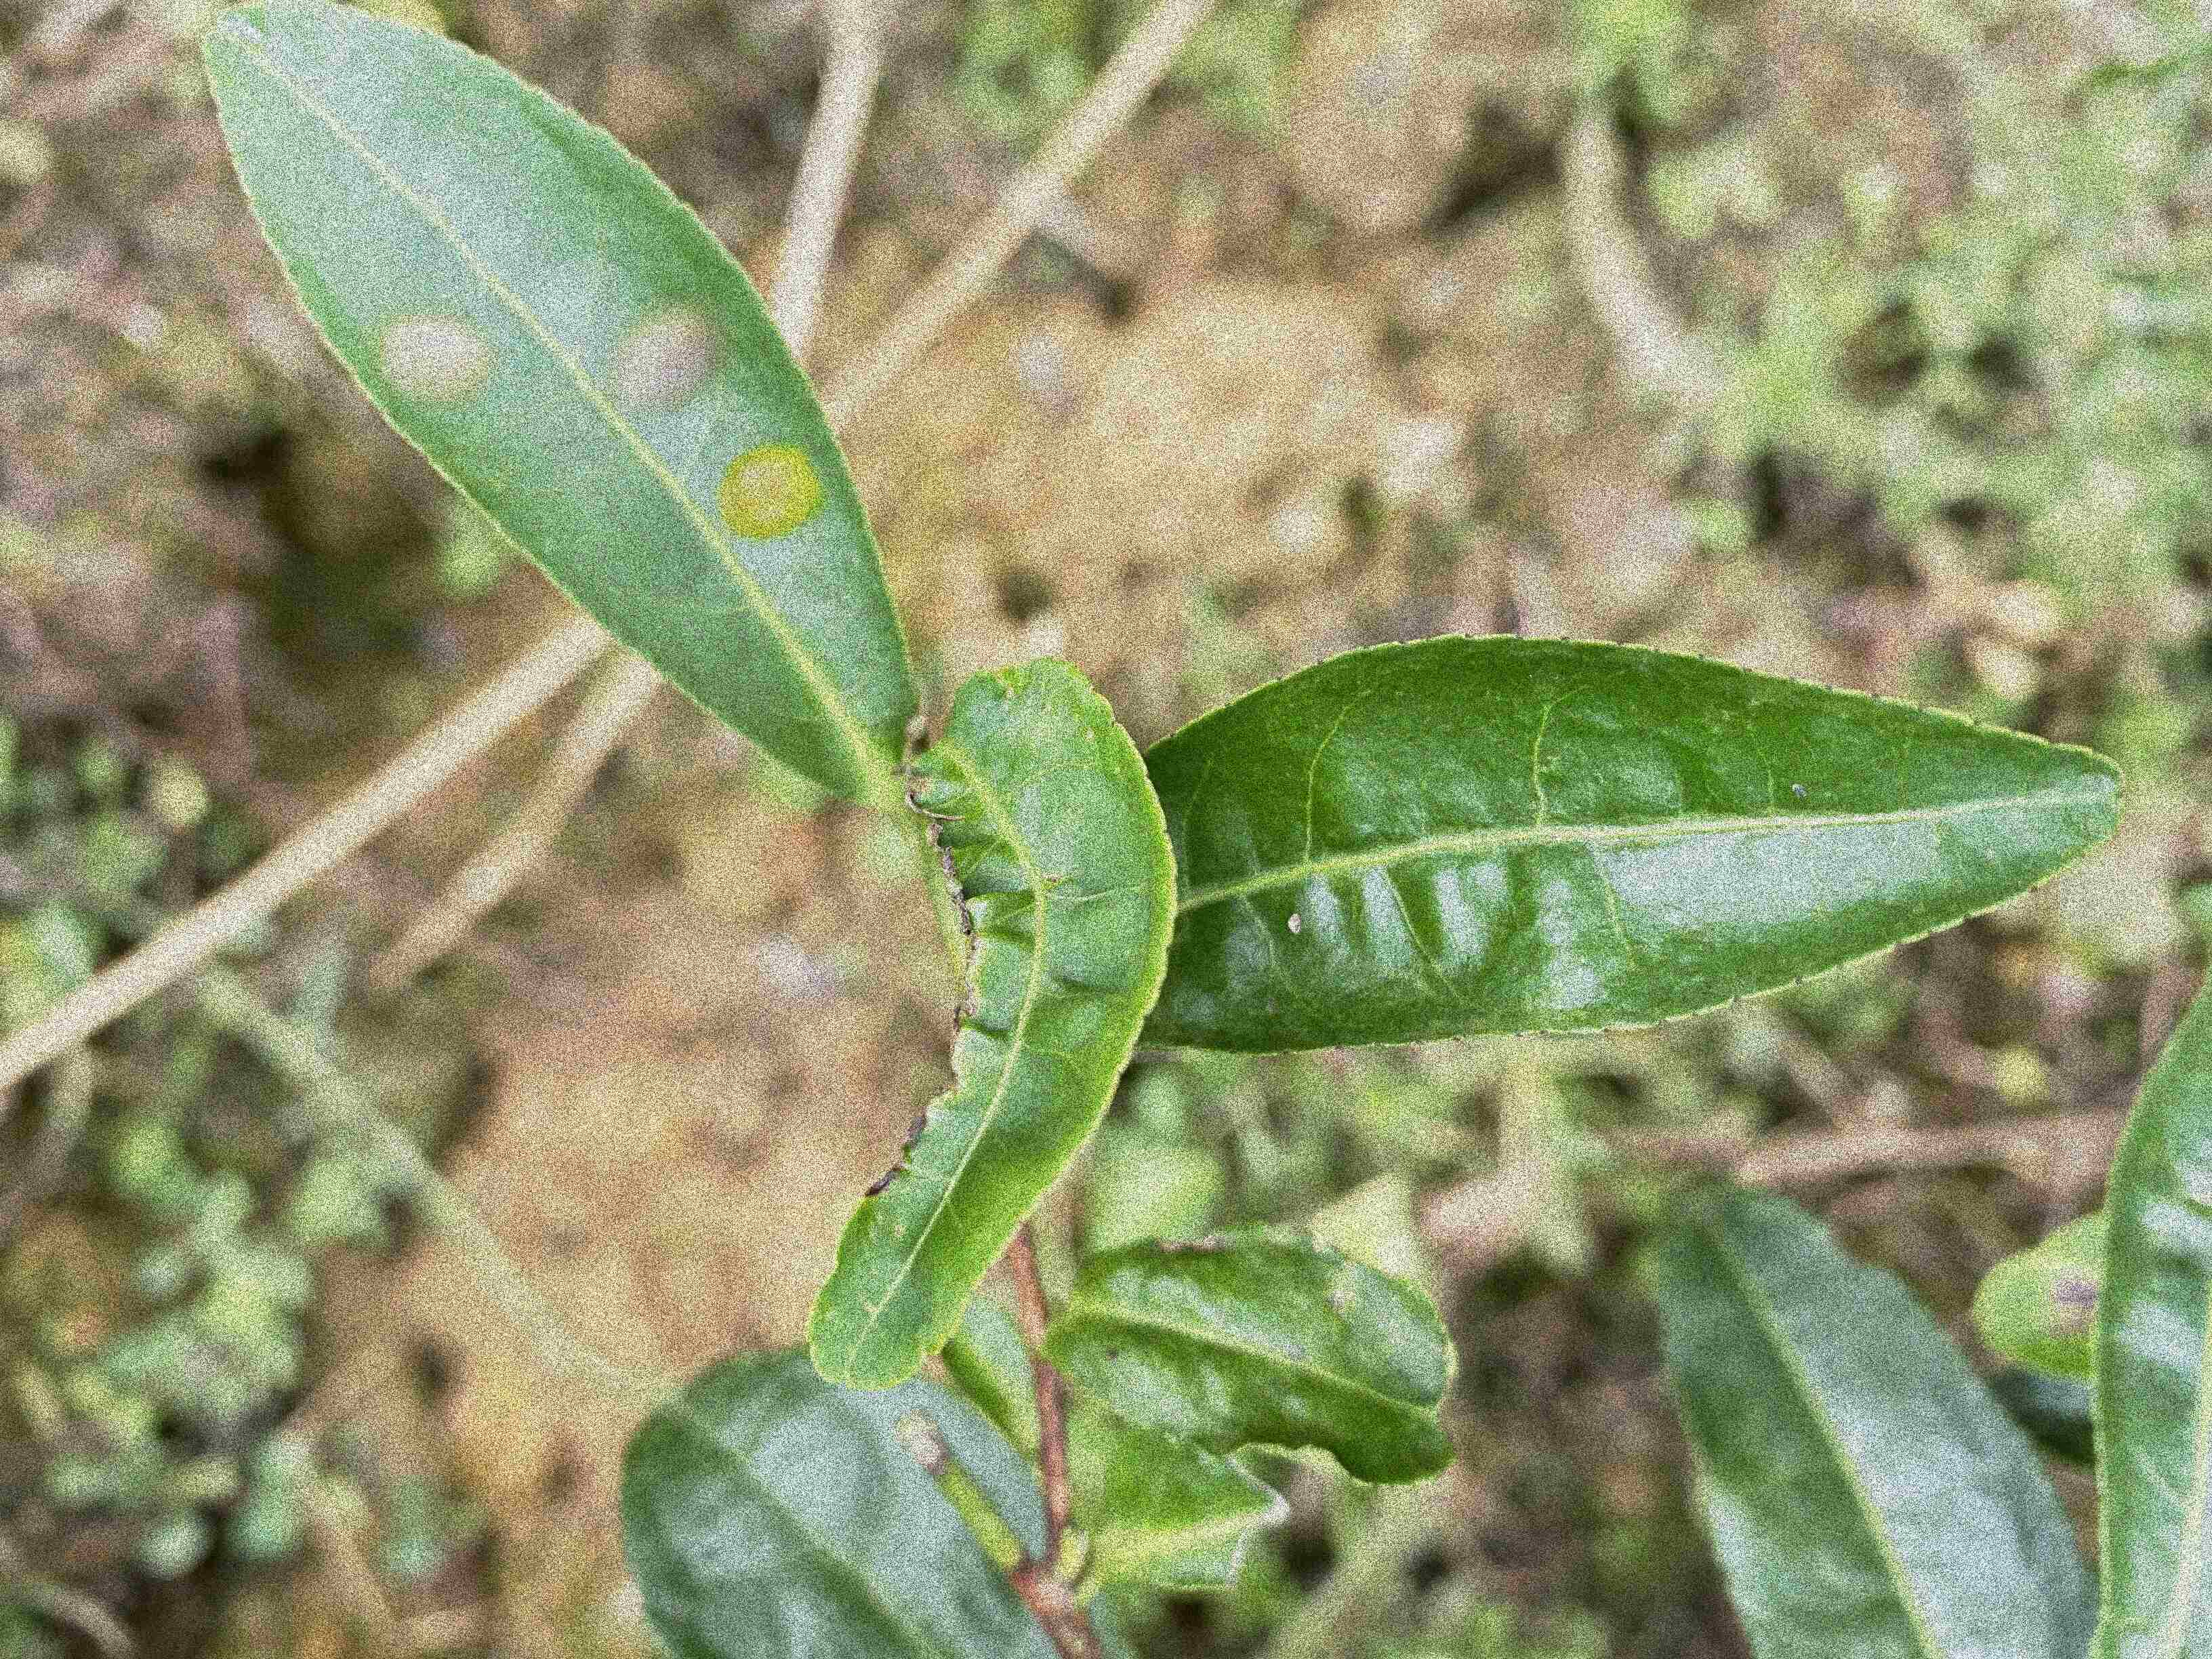chabing_high: (193, 3, 927, 809)
chihuo_high: (806, 655, 1183, 1391)
tanju_low: (1137, 627, 2127, 1056)
